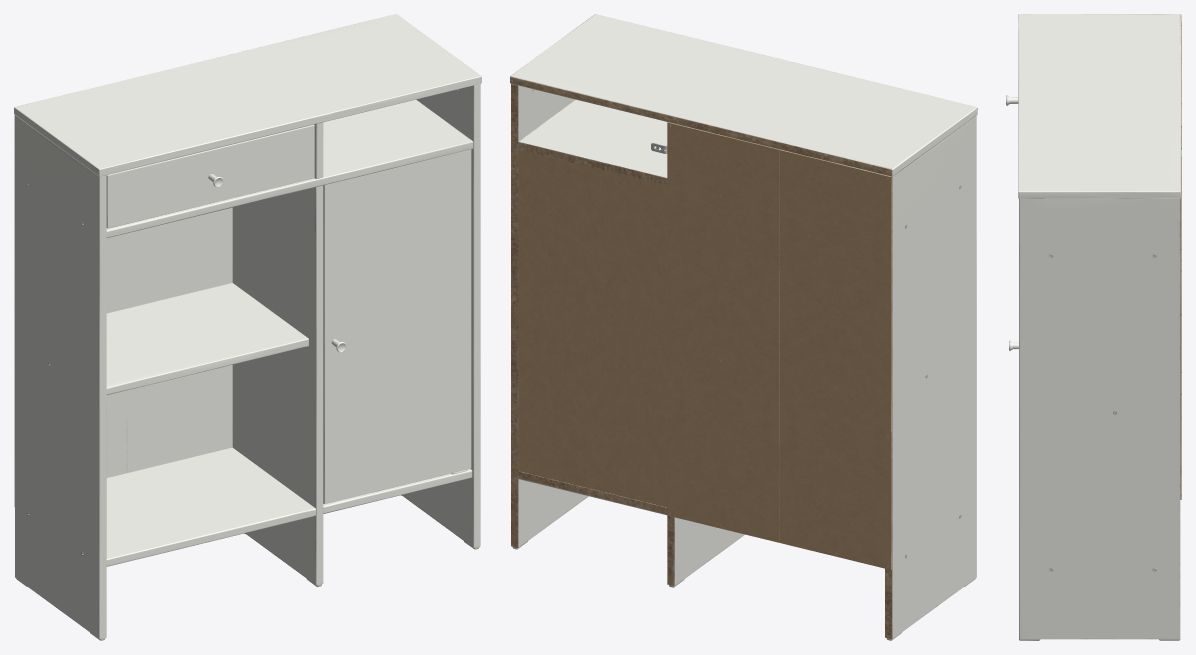
File: baggebo_kredens_40553616.glb
The picture shows the model from 3 angles, left to right: view 1: azimuth 30°, elevation 25°; view 2: azimuth 150°, elevation 25°; view 3: azimuth 270°, elevation 25°; orthographic projection. The views are drawn at different scales.
Parts seen in each view (by area): view 1: baggebo_kredens_40553616; view 2: baggebo_kredens_40553616; view 3: baggebo_kredens_40553616.
Boxes of the visible parts, x1,y1,x2,y2 form: baggebo_kredens_40553616: [14, 14, 481, 640]; baggebo_kredens_40553616: [510, 14, 977, 640]; baggebo_kredens_40553616: [1006, 14, 1181, 640].
Bounding box in the file's own units: 0.783 × 0.9241 × 0.3271.
Materials: 3 (3 with a texture image).
